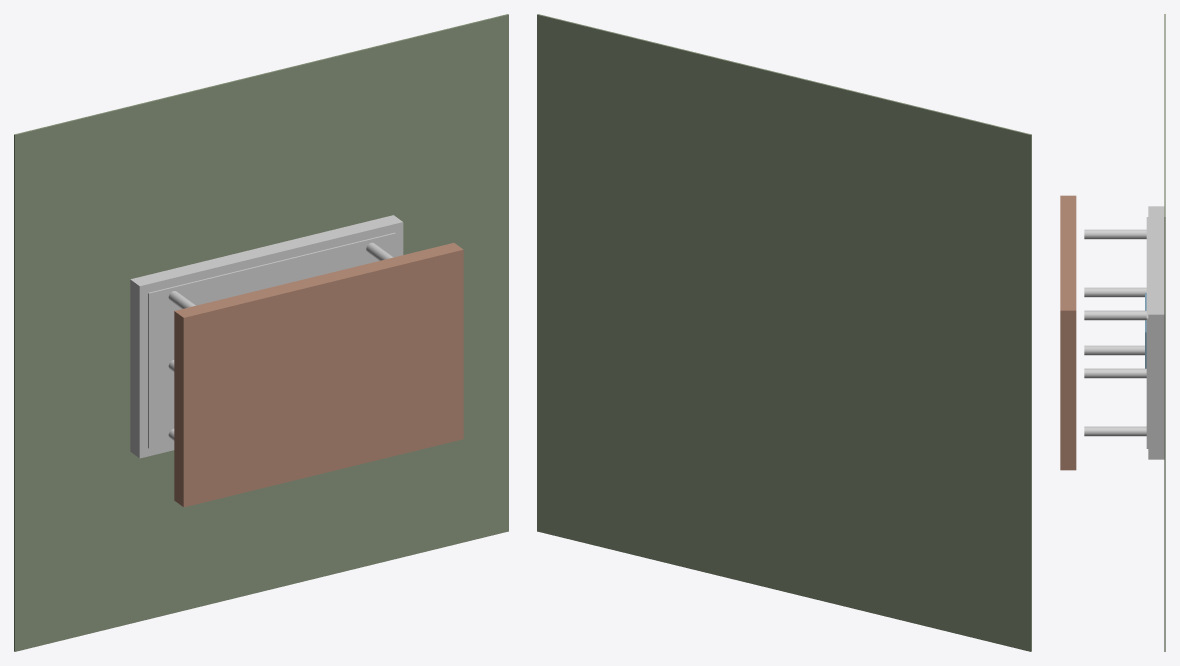
File: GREEK_TEMPLE_20251211_081048.glb
The picture shows the model from 3 angles, left to right: view 1: azimuth 30°, elevation 25°; view 2: azimuth 150°, elevation 25°; view 3: azimuth 270°, elevation 25°; orthographic projection. The views are drawn at different scales.
Parts seen in each view (by area): view 1: world; view 2: world; view 3: world.
Boxes of the visible parts, x1,y1,x2,y2 form: world: (14, 14, 508, 651); world: (537, 14, 1031, 651); world: (1060, 14, 1165, 651).
Size of the model in its own units: 30 by 30 by 6.6.
